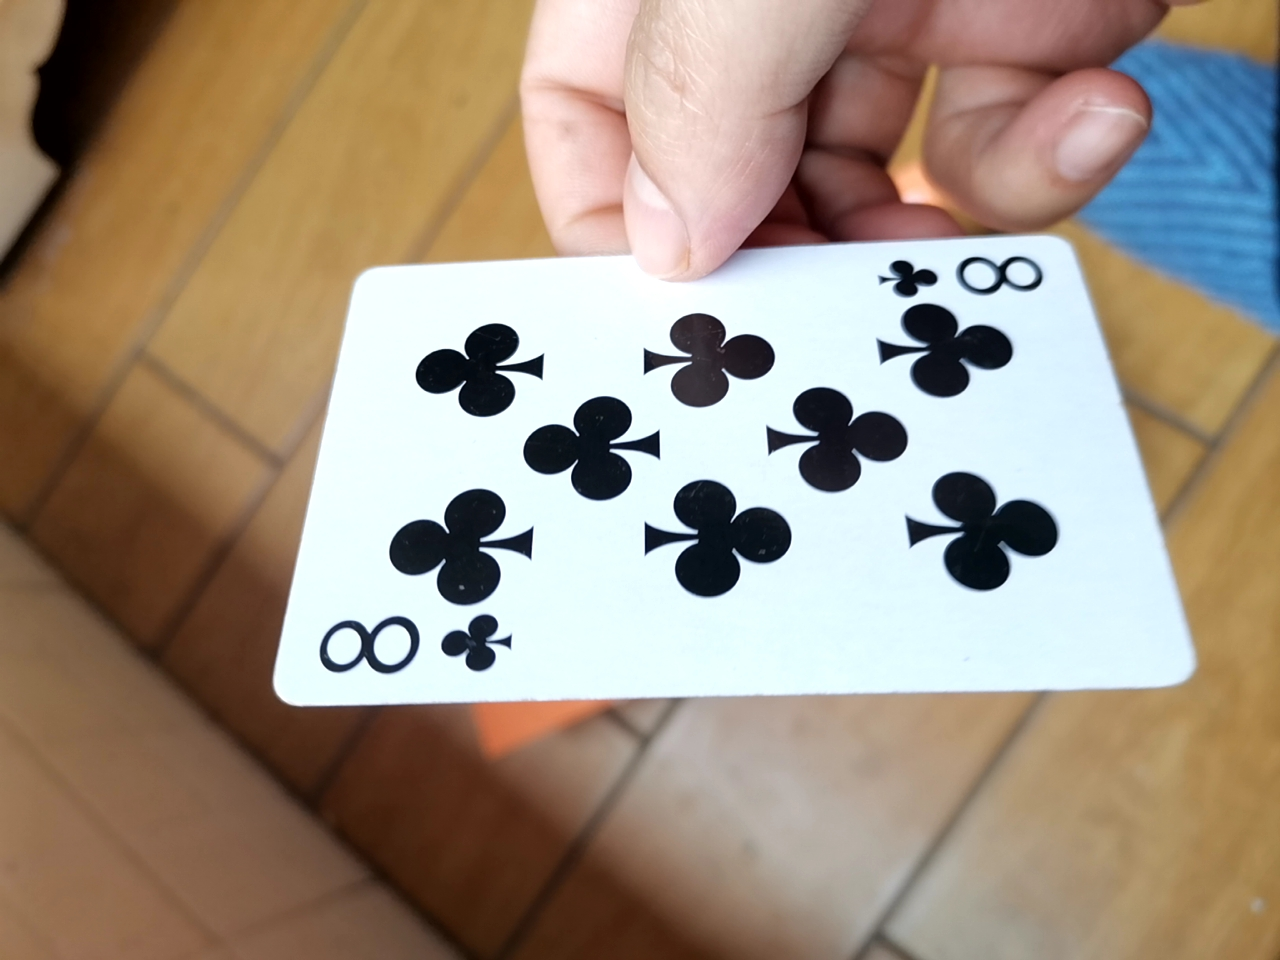mh 8: (261, 223, 1192, 721)
